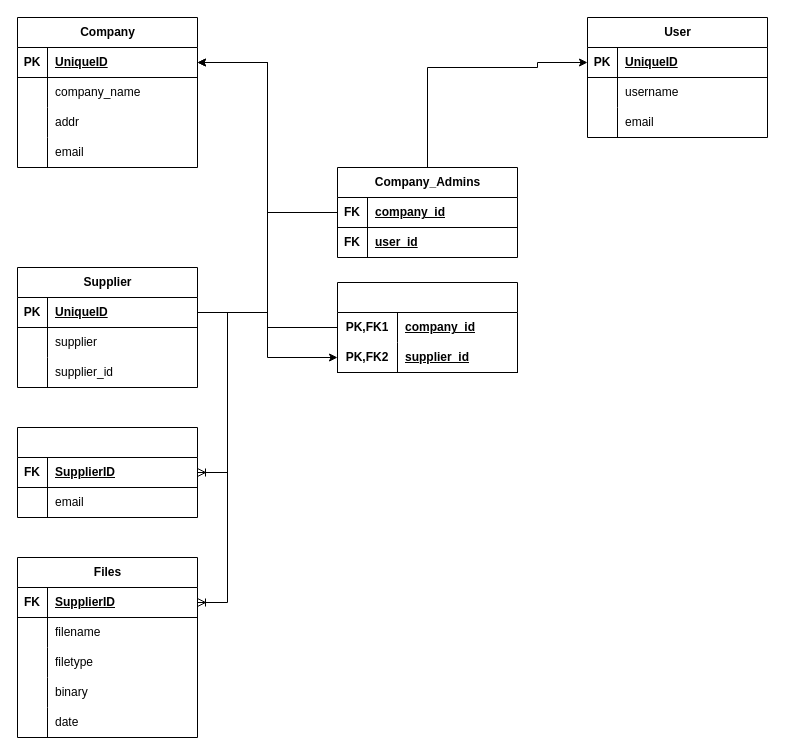
Some shapes in this 785 by 755 pixel diagram are drawn without their labels. Here are the shapes that lost their labels. From the top down, the box of each, then its label:
(336, 282, 518, 372): Company_Suppliers
(16, 426, 198, 518): Supplier_emails
